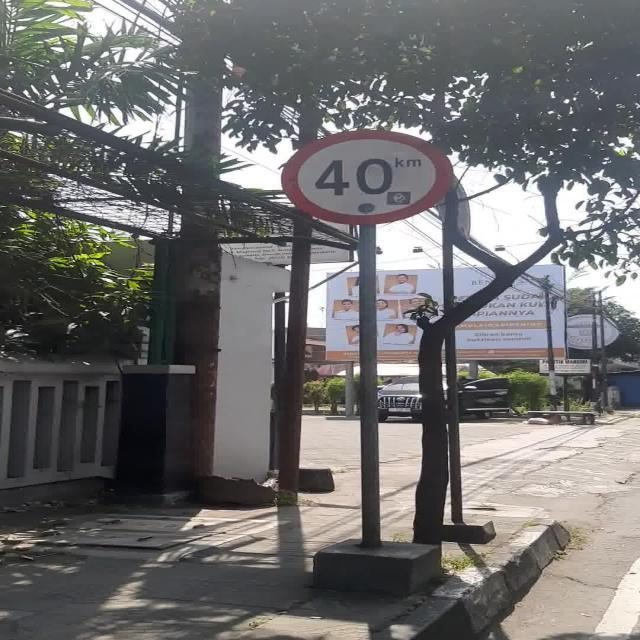Kecepatan Maks. 40 km: (280, 128, 456, 225)
